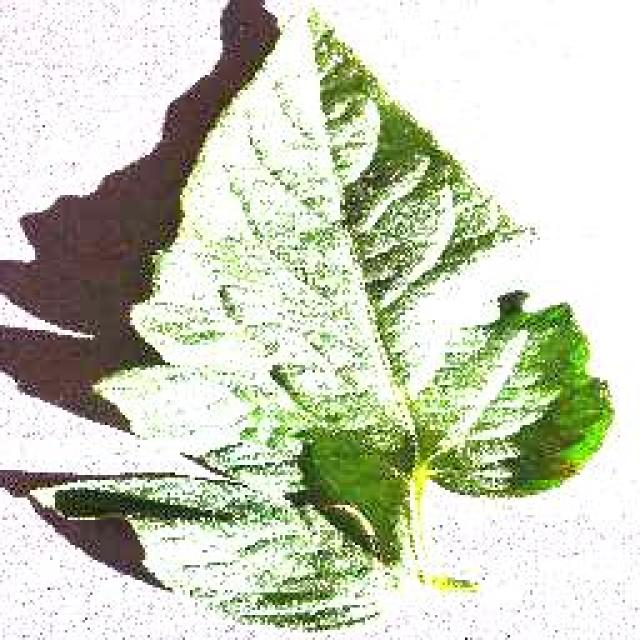Tomato___healthy: (26, 4, 620, 634)
